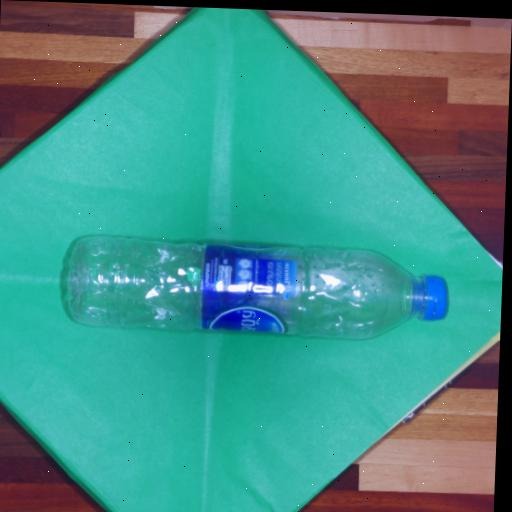bottle: (64, 233, 449, 342)
